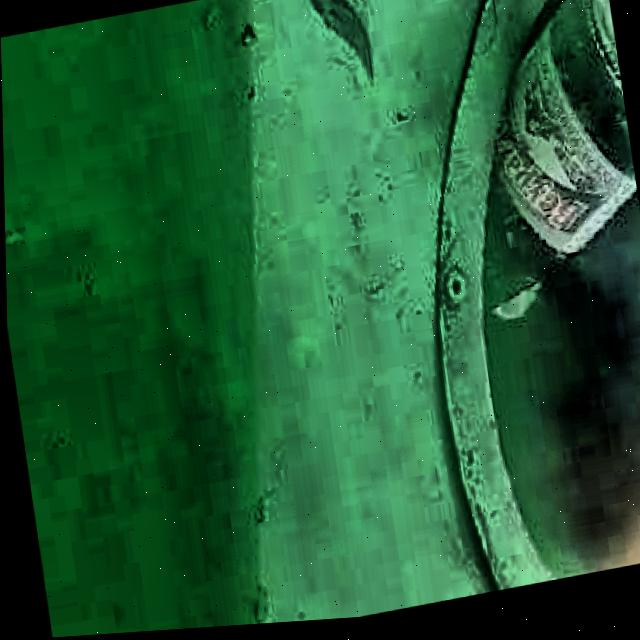glass: (483, 0, 635, 326)
